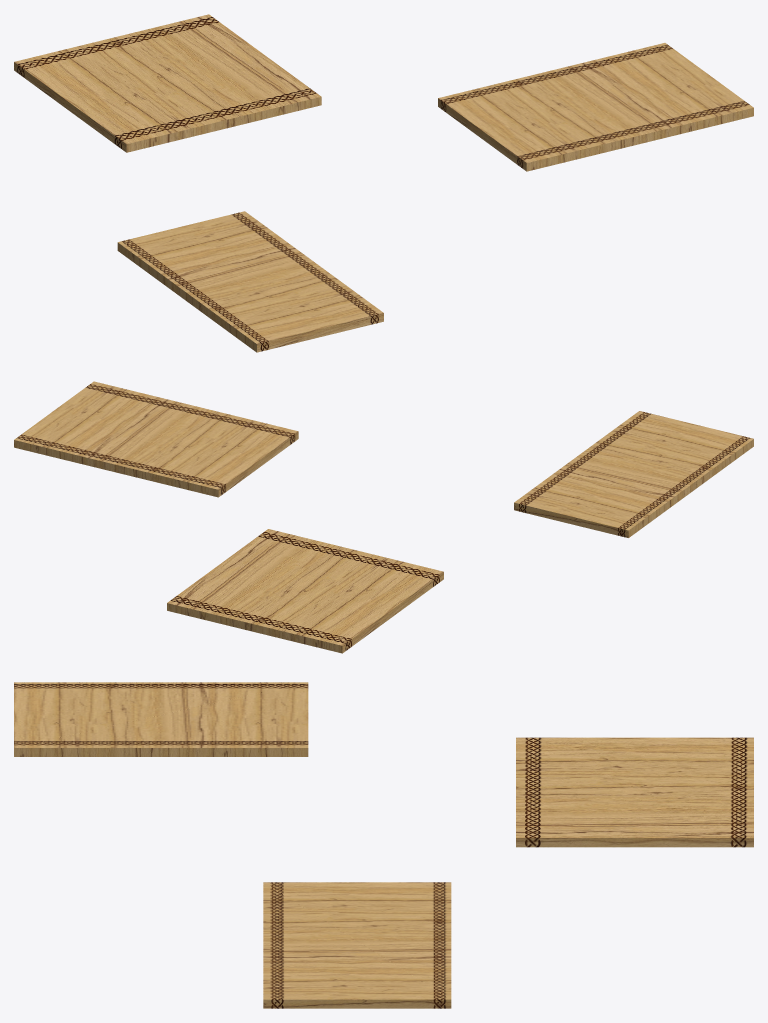
The model's file is Plataformes.FBX.
3 renders of one model, top to bottom at view 1: azimuth 30°, elevation 25°; view 2: azimuth 150°, elevation 25°; view 3: azimuth 270°, elevation 25°, orthographic. The views are drawn at different scales.
Parts seen in each view (by area): view 1: Box004, Box002, Box005; view 2: Box004, Box002, Box005; view 3: Box004, Box002, Box005.
Boxes of the visible parts, left/top/right/bottom form: Box004: left=14, top=14, right=321, bottom=152; Box002: left=438, top=43, right=753, bottom=171; Box005: left=117, top=211, right=383, bottom=352; Box004: left=167, top=529, right=443, bottom=653; Box002: left=14, top=381, right=298, bottom=497; Box005: left=514, top=411, right=753, bottom=537; Box004: left=516, top=737, right=753, bottom=847; Box002: left=263, top=882, right=451, bottom=1008; Box005: left=14, top=682, right=308, bottom=756.
Bounding box in the file's own units: 621 × 8.25 × 612.
Materials: 2 (2 with a texture image).
